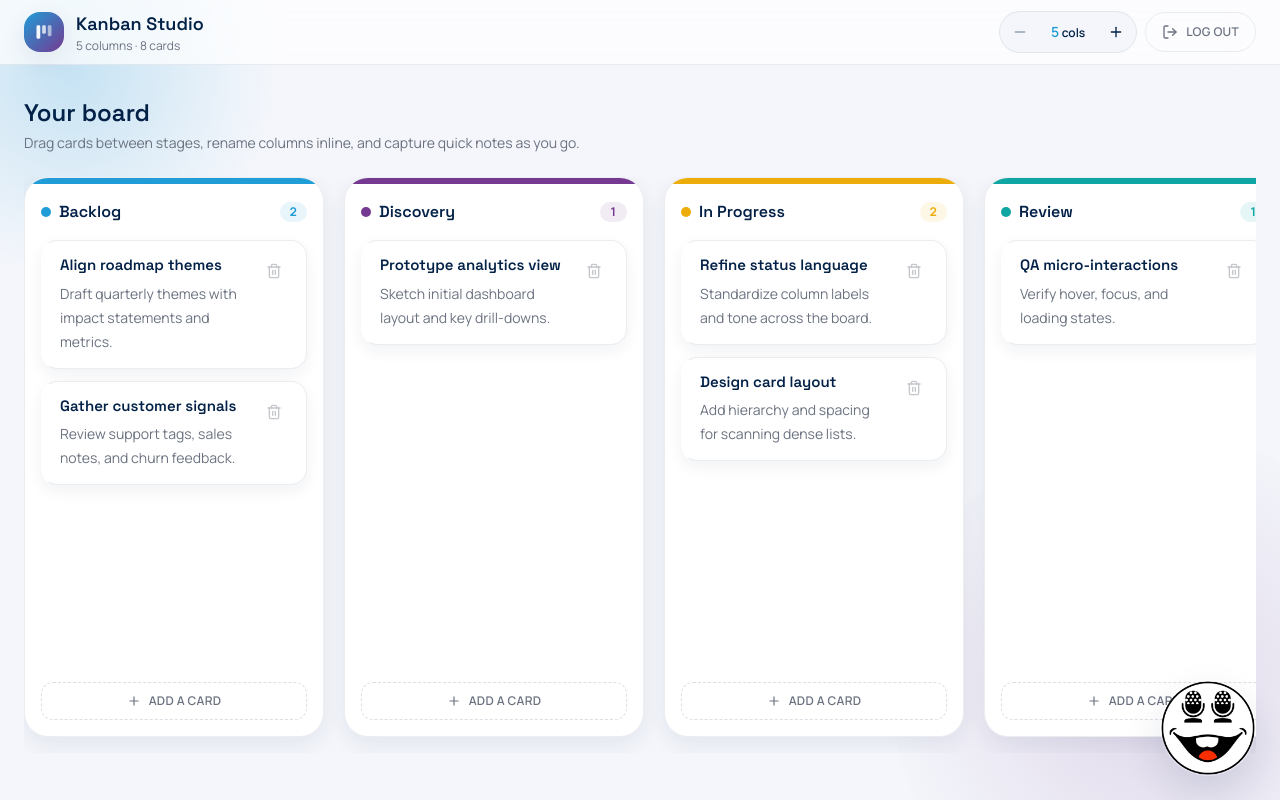
KanbanBoard › adds a column up to the max, then disables adding further
This screenshot has width=1280, height=800.
Click the button named "add a column".
click(1116, 32)  # box [1100,16,1132,48]
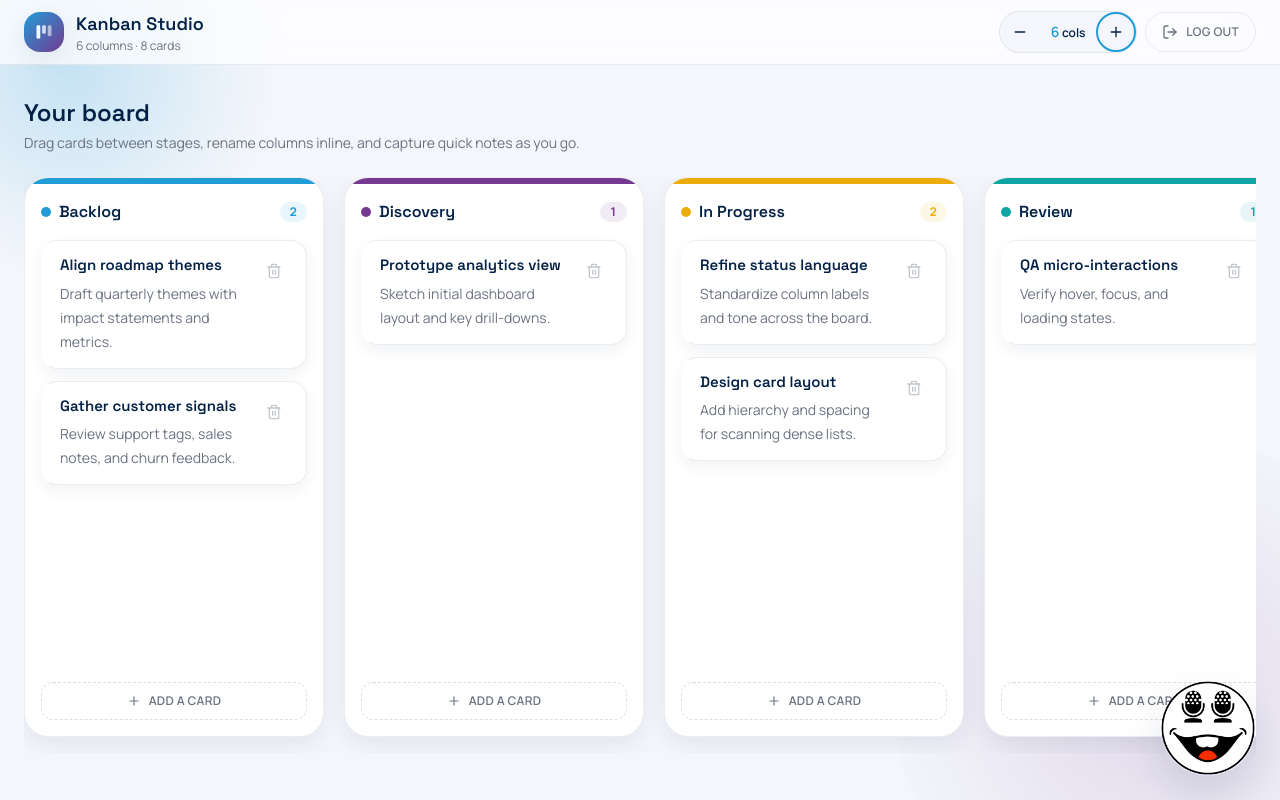
Click the button named "add a column".
click(1116, 32)  # box [1100,16,1132,48]
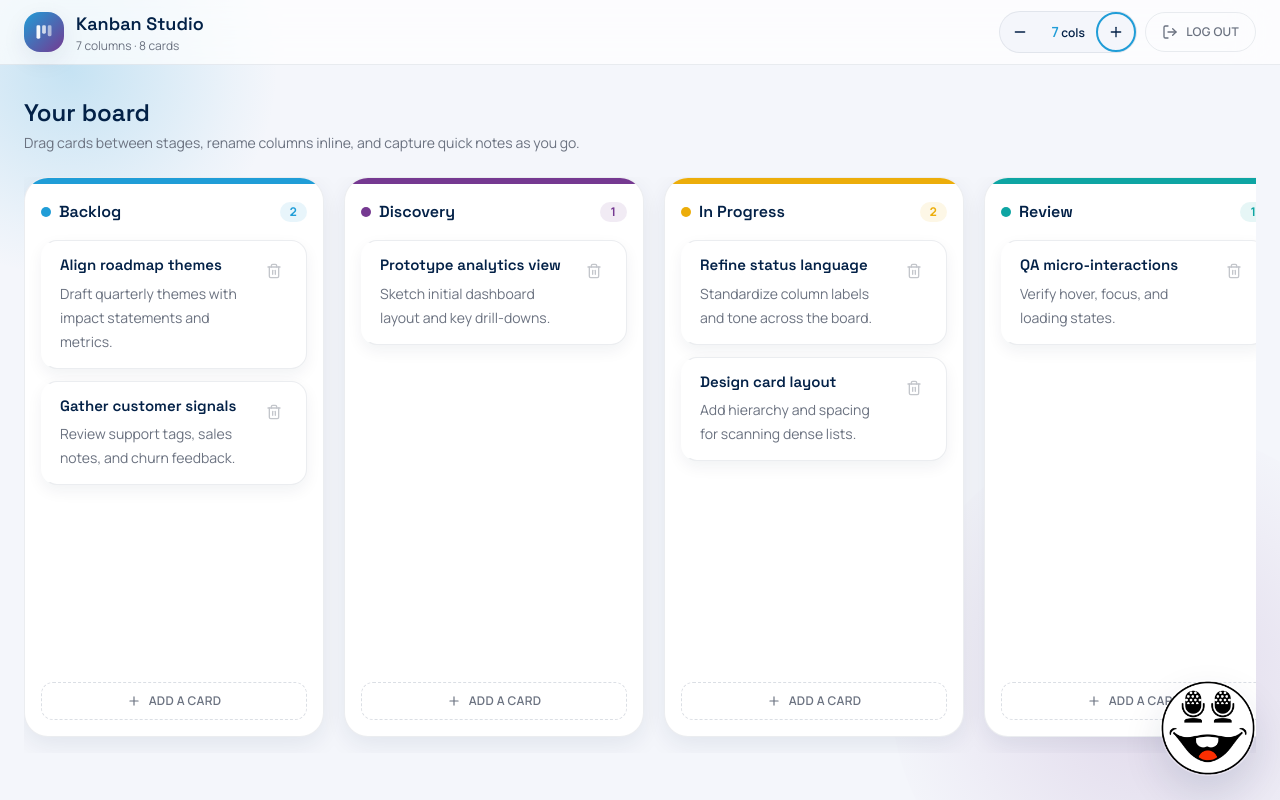
Click the button named "add a column".
click(1116, 32)  # box [1100,16,1132,48]
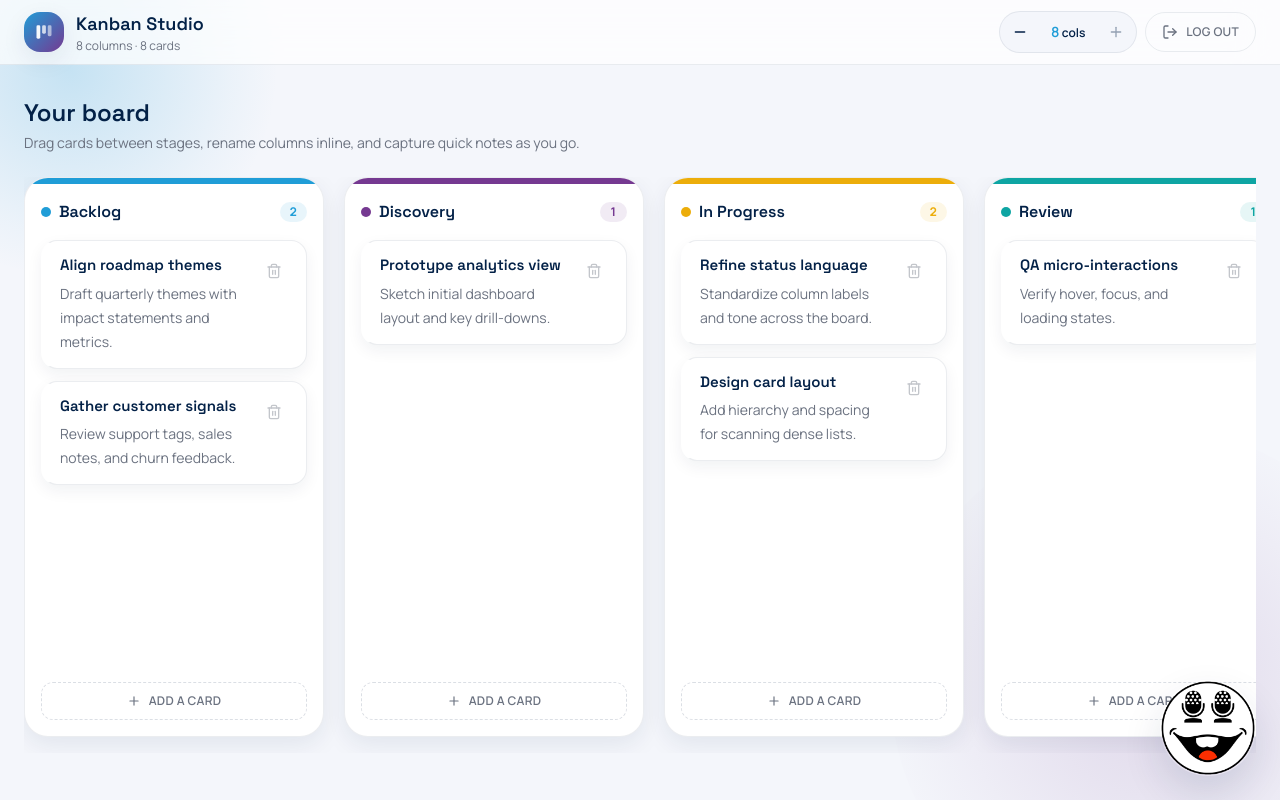
Expected: the button named "add a column" is disabled, [1100,16,1132,48]
